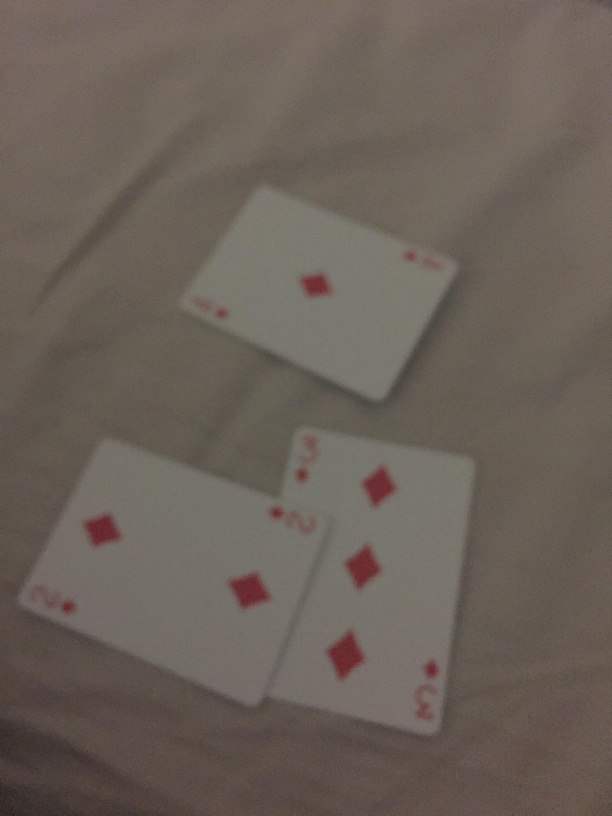2: (8, 428, 330, 711)
3: (278, 427, 480, 742)
ace: (168, 170, 462, 401)
